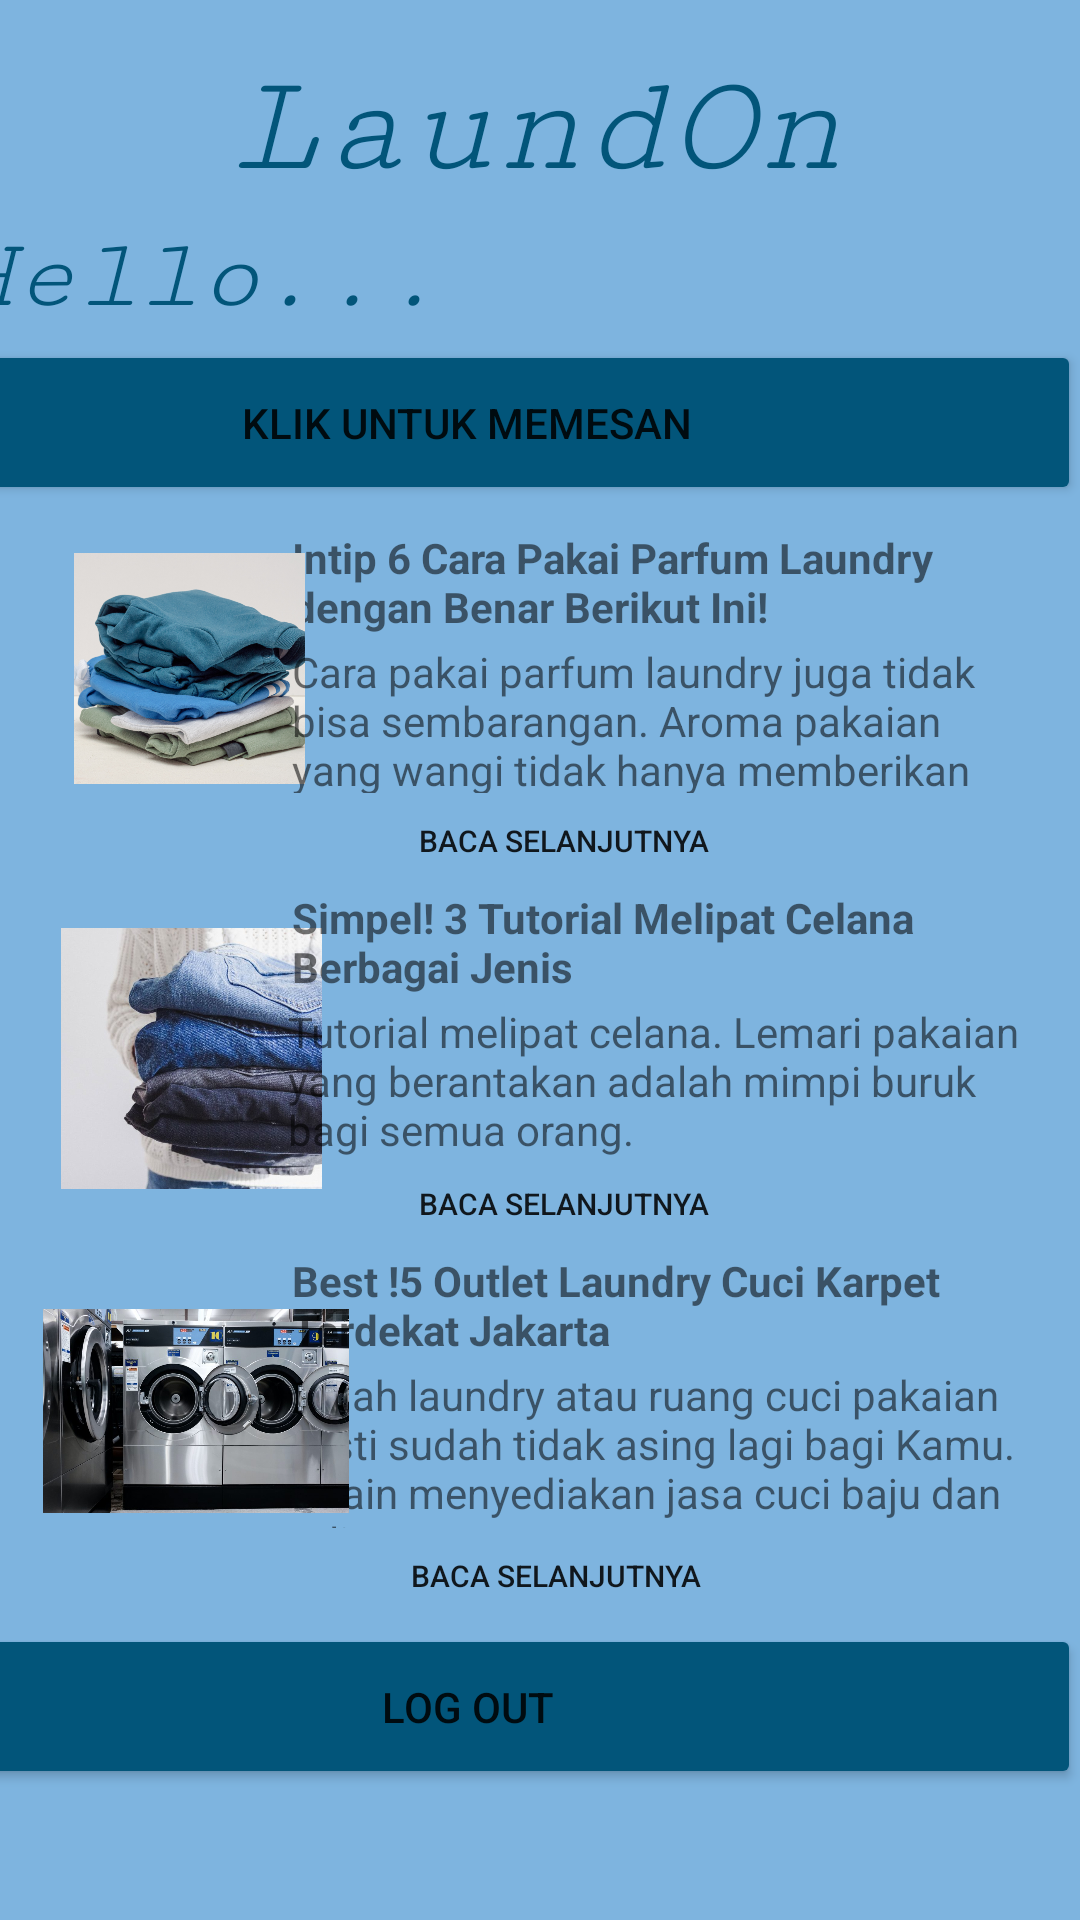

Icons on this 1080x1920 Android screen, each with its box as (x1, y1, x2, y2):
artikel: (74, 553, 344, 784), (61, 928, 343, 1189), (43, 1285, 349, 1528)
